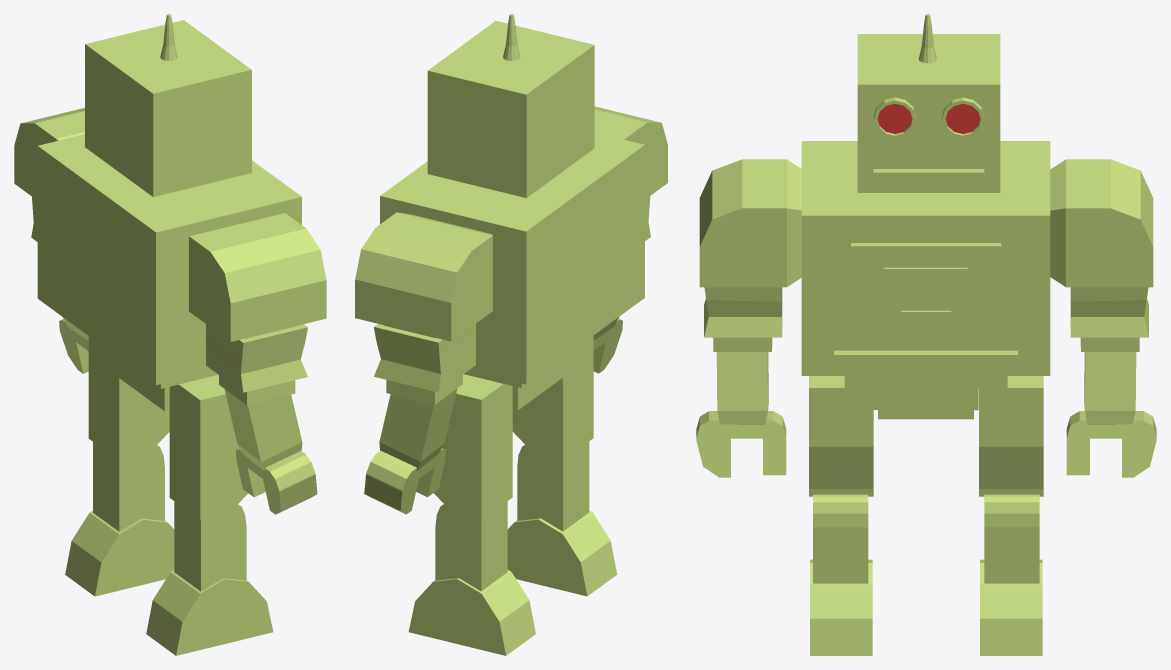
File: Robotin.fbx
3 renders of one model, left to right at view 1: azimuth 30°, elevation 25°; view 2: azimuth 150°, elevation 25°; view 3: azimuth 270°, elevation 25°, orthographic. The views are drawn at different scales.
Parts seen in each view (by area): view 1: Robotin; view 2: Robotin; view 3: Robotin.
Part boxes in pixels (x1,y1,x2,y2): Robotin: (14,14,326,655); Robotin: (355,14,667,655); Robotin: (696,14,1156,655).
Size of the model in its own units: 0.1613 by 0.6204 by 0.42.
